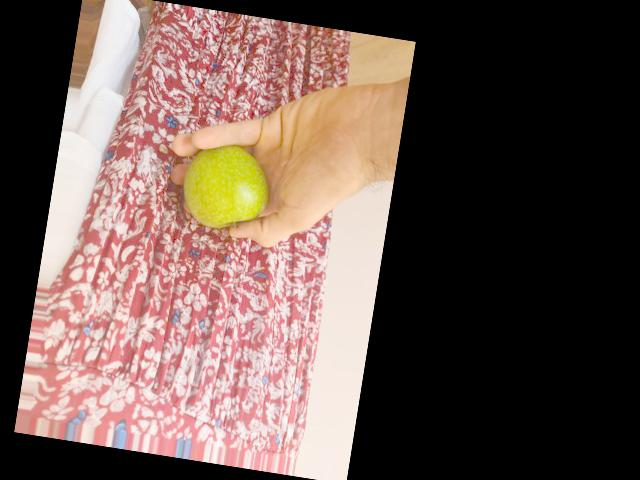apple: (183, 139, 272, 230)
